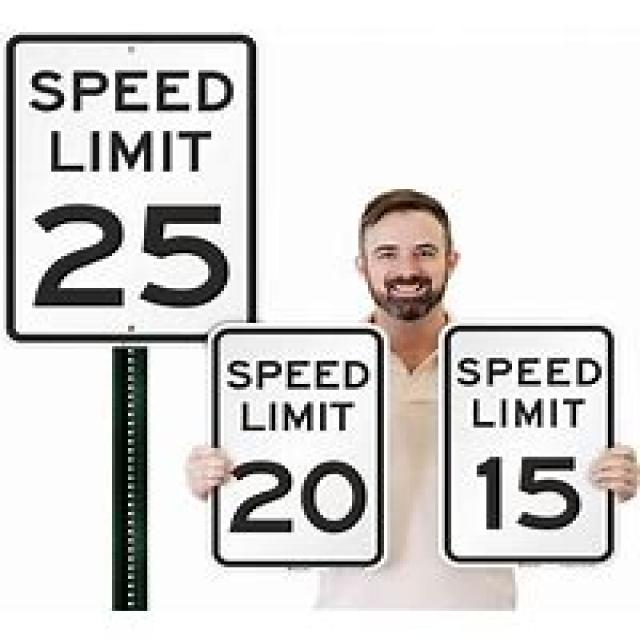speedLimit15: (435, 326, 621, 561)
speedLimit20: (208, 323, 387, 550)
speedLimit25: (0, 35, 259, 337)
